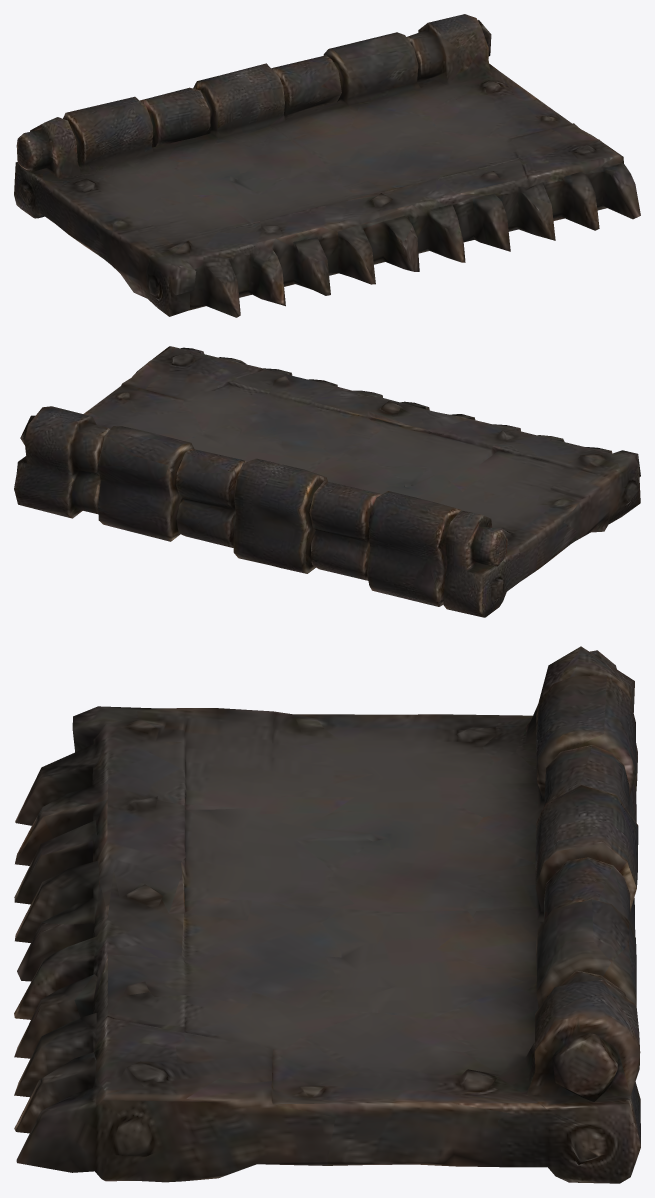
File: clampjaw.glb
3 views of the same model, one above another, from view 1: azimuth 30°, elevation 25°; view 2: azimuth 150°, elevation 25°; view 3: azimuth 270°, elevation 25° (orthographic). The views are drawn at different scales.
Parts seen in each view (by area): view 1: clampjaw; view 2: clampjaw; view 3: clampjaw.
Boxes of the visible parts, box(x1,y1,x2,y2) form: clampjaw: box(14, 14, 640, 317); clampjaw: box(14, 346, 640, 617); clampjaw: box(14, 646, 640, 1183).
Bounding box in the file's own units: 1.6 × 0.309 × 1.05.
Materials: 1 (1 with a texture image).
